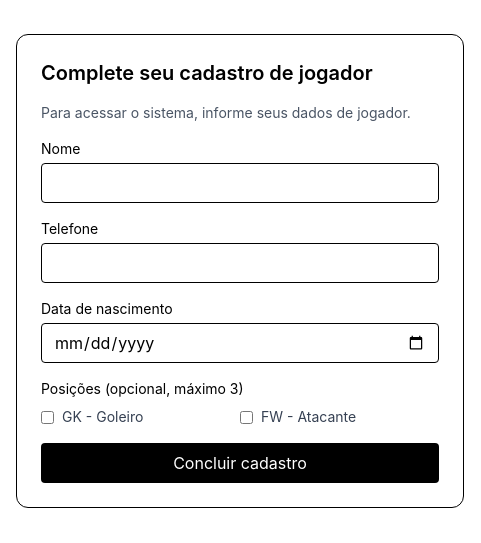
Test case: CompletePlayerProfilePage › deve exibir erro quando usuário logado não estiver disponível
Type "Joao Silva" into the field labelled "Nome".
click(240, 183); type("Joao Silva")  # box left=41, top=163, right=439, bottom=203
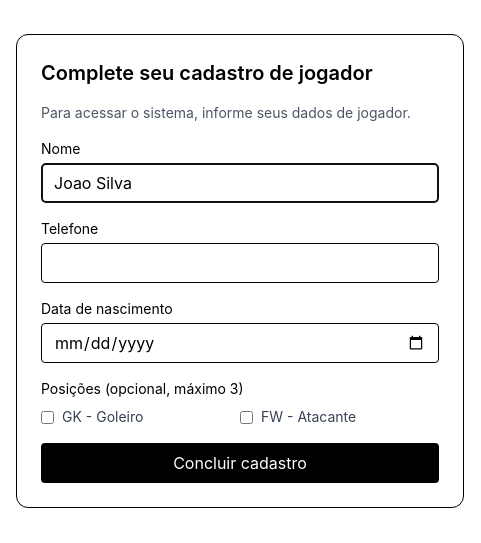
Type "11999990001" into the field labelled "Telefone".
click(240, 263); type("11999990001")  # box left=41, top=243, right=439, bottom=283
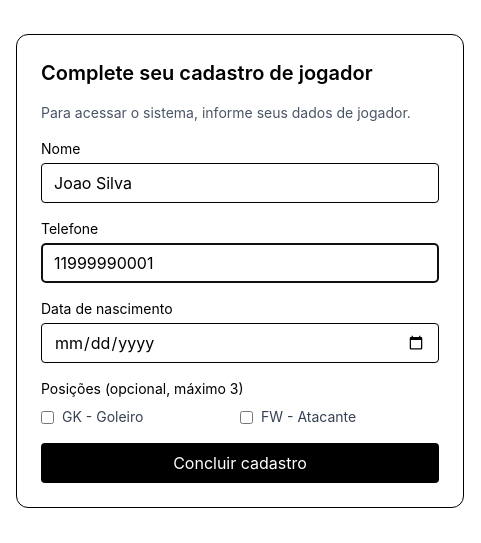
Type "1990-01-01" into the date field labelled "Data de nascimento".
click(240, 343); type("1990-01-01")  # box left=41, top=323, right=439, bottom=363
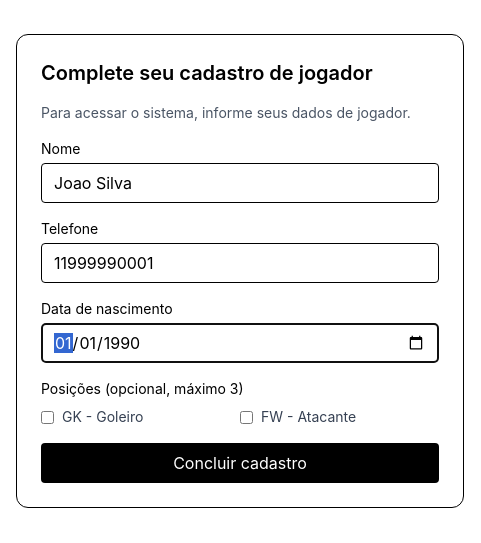
Click the button "Concluir cadastro".
click(240, 463)  # box left=41, top=443, right=439, bottom=483
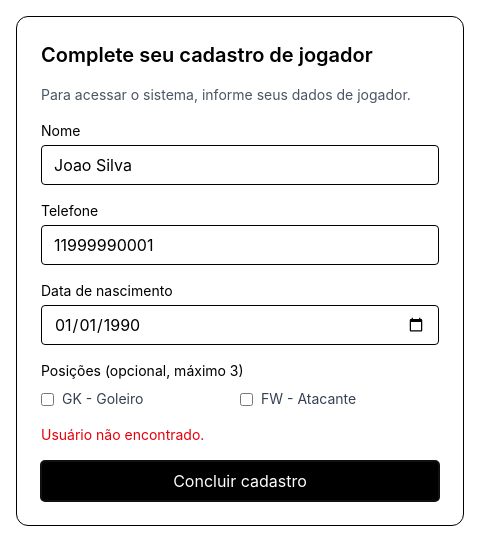
expect the text "Usuário não encontrado." is shown: met, box left=41, top=426, right=204, bottom=443
